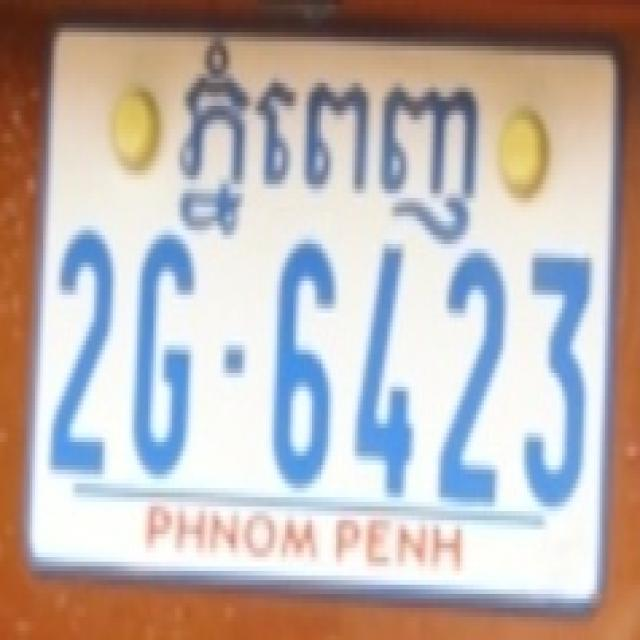licenseplate: (28, 10, 612, 624)
